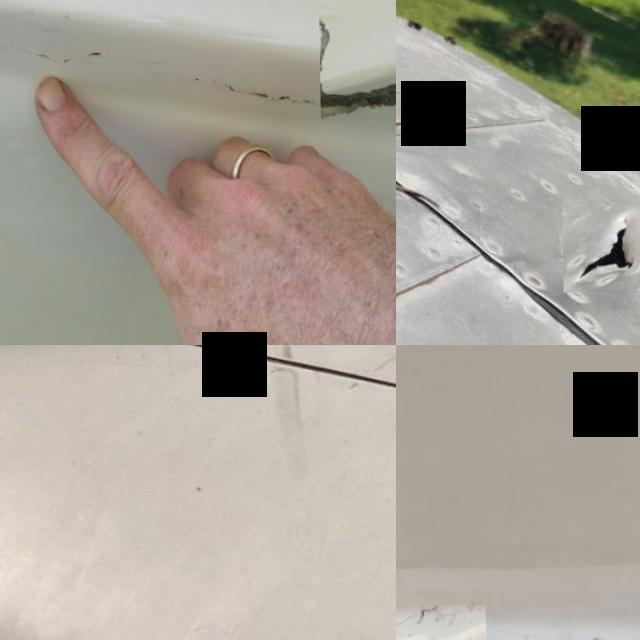Crack: (319, 19, 396, 124), (561, 207, 640, 294), (140, 73, 320, 111), (0, 41, 165, 69), (396, 607, 485, 633)
Missing_Fastener: (197, 356, 266, 392)
